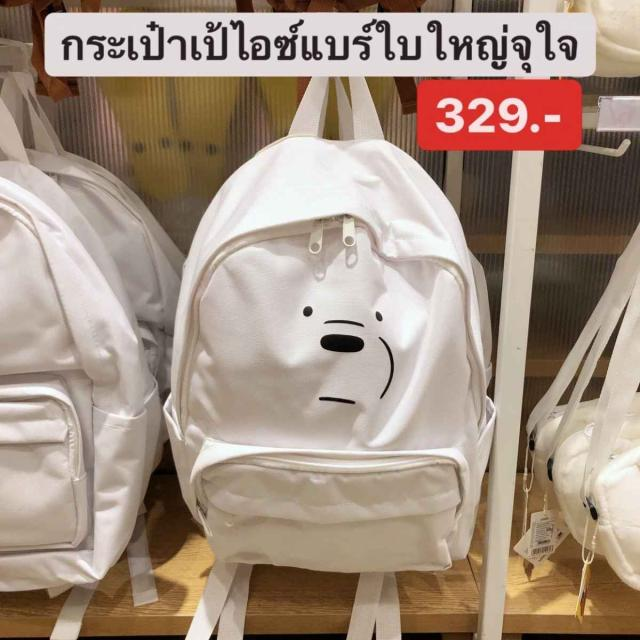Handbag: (164, 135, 504, 572)
